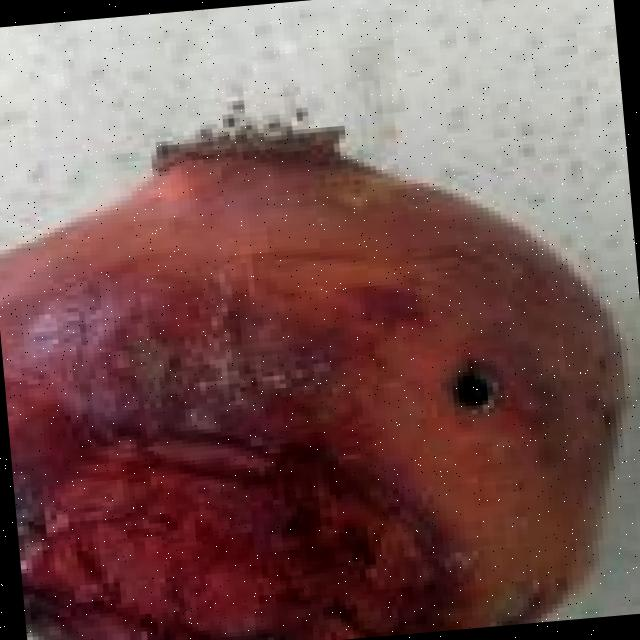Bad_Pomegranate-0-1-day: (0, 134, 632, 640)
